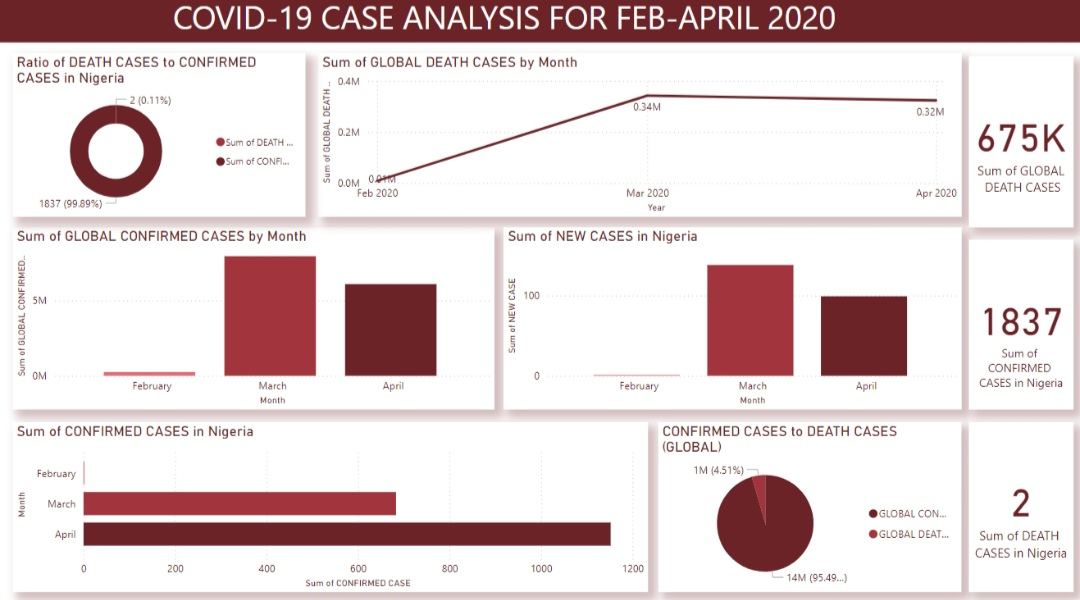

What the dashboard file says about the page in this screenshot:
{"tool":"powerbi","page":{"name":"Page 1","canvas":[1280,720],"ordinal":0},"visuals":[{"type":"textbox","box":[0,0,1280,60.3],"z":0},{"type":"columnChart","title":"Sum of GLOBAL CONFIRMED CASES by Month","fields":{"Category":["NIGERIA COVID-19 ECO.DATE.Variation.Date Hierarchy.Month","NIGERIA COVID-19 ECO.DATE.Variation.Date Hierarchy.Day"],"Y":["Sum(NIGERIA COVID-19 ECO.GLOBAL CONFIRMED CASE)"]},"box":[20.5,277.5,567,214.7],"z":1000},{"type":"lineChart","title":"Sum of GLOBAL DEATH CASES by Month","fields":{"Y":["Sum(NIGERIA COVID-19 ECO.GLOBAL DEATH CASES)"],"Category":["NIGERIA COVID-19 ECO.DATE.Variation.Date Hierarchy.Year","NIGERIA COVID-19 ECO.DATE.Variation.Date Hierarchy.Quarter","NIGERIA COVID-19 ECO.DATE.Variation.Date Hierarchy.Month","NIGERIA COVID-19 ECO.DATE.Variation.Date Hierarchy.Day"]},"box":[380,72.4,757.6,193],"z":2000},{"type":"columnChart","title":"Sum of NEW CASES in Nigeria","fields":{"Y":["Sum(NIGERIA COVID-19 ECO.NEW CASE)"],"Category":["NIGERIA COVID-19 ECO.DATE.Variation.Date Hierarchy.Month"]},"box":[598.4,277.5,539.3,214.7],"z":3000},{"type":"barChart","title":"Sum of CONFIRMED CASES in Nigeria","fields":{"Category":["NIGERIA COVID-19 ECO.DATE.Variation.Date Hierarchy.Month"],"Y":["Sum(NIGERIA COVID-19 ECO.CONFIRMED CASE)"]},"box":[20.5,506.7,748,200.3],"z":4000},{"type":"pieChart","title":"CONFIRMED CASES to DEATH CASES (GLOBAL)","fields":{"Y":["Sum(NIGERIA COVID-19 ECO.GLOBAL CONFIRMED CASE)","Sum(NIGERIA COVID-19 ECO.GLOBAL DEATH CASES)"]},"box":[780.6,506.7,357.1,200.3],"z":5000},{"type":"donutChart","title":"Ratio of DEATH CASES to CONFIRMED CASES in Nigeria","fields":{"Y":["Sum(NIGERIA COVID-19 ECO.DEATH CASE)","Sum(NIGERIA COVID-19 ECO.CONFIRMED CASE)"]},"box":[20.5,72.4,345,193],"z":6000},{"type":"card","fields":{"Values":["Sum(NIGERIA COVID-19 ECO.GLOBAL DEATH CASES)"]},"box":[1146.1,76,123.1,201.5],"z":6001},{"type":"card","fields":{"Values":["Sum(NIGERIA COVID-19 ECO.CONFIRMED CASE)"]},"box":[1146.1,292,123.1,200.3],"z":6002},{"type":"card","fields":{"Values":["Sum(NIGERIA COVID-19 ECO.DEATH CASE)"]},"box":[1146.1,506.7,123.1,200.3],"z":6003}]}

Visuals, with their boxes in screenshot pixels (x1, y1, x2, y2), scaled from the page's 1280x720 canvas onto the 1080x600 screenshot:
textbox: [0,0,1079,50]
"Sum of GLOBAL CONFIRMED CASES by Month" columnChart: [17,231,496,410]
"Sum of GLOBAL DEATH CASES by Month" lineChart: [321,60,960,221]
"Sum of NEW CASES in Nigeria" columnChart: [505,231,960,410]
"Sum of CONFIRMED CASES in Nigeria" barChart: [17,422,648,589]
"CONFIRMED CASES to DEATH CASES (GLOBAL)" pieChart: [659,422,960,589]
"Ratio of DEATH CASES to CONFIRMED CASES in Nigeria" donutChart: [17,60,308,221]
card - Sum(NIGERIA COVID-19 ECO.GLOBAL DEATH CASES): [967,63,1071,231]
card - Sum(NIGERIA COVID-19 ECO.CONFIRMED CASE): [967,243,1071,410]
card - Sum(NIGERIA COVID-19 ECO.DEATH CASE): [967,422,1071,589]
